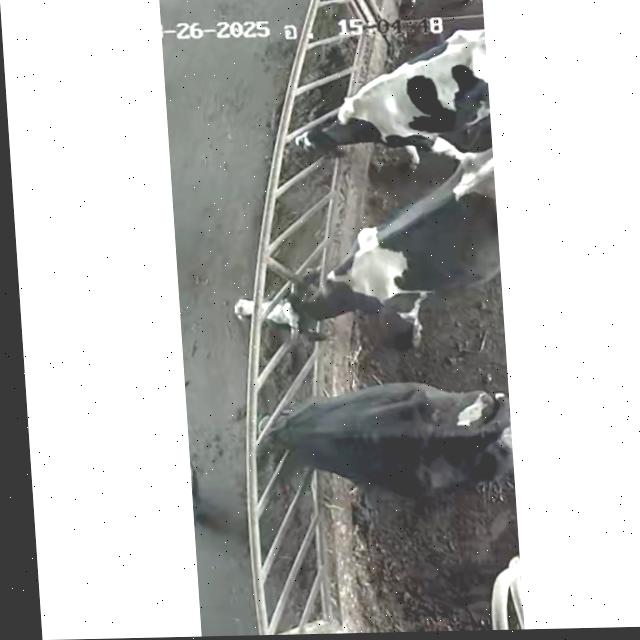eat: (213, 241, 390, 358), (243, 73, 418, 172), (212, 391, 347, 488)
